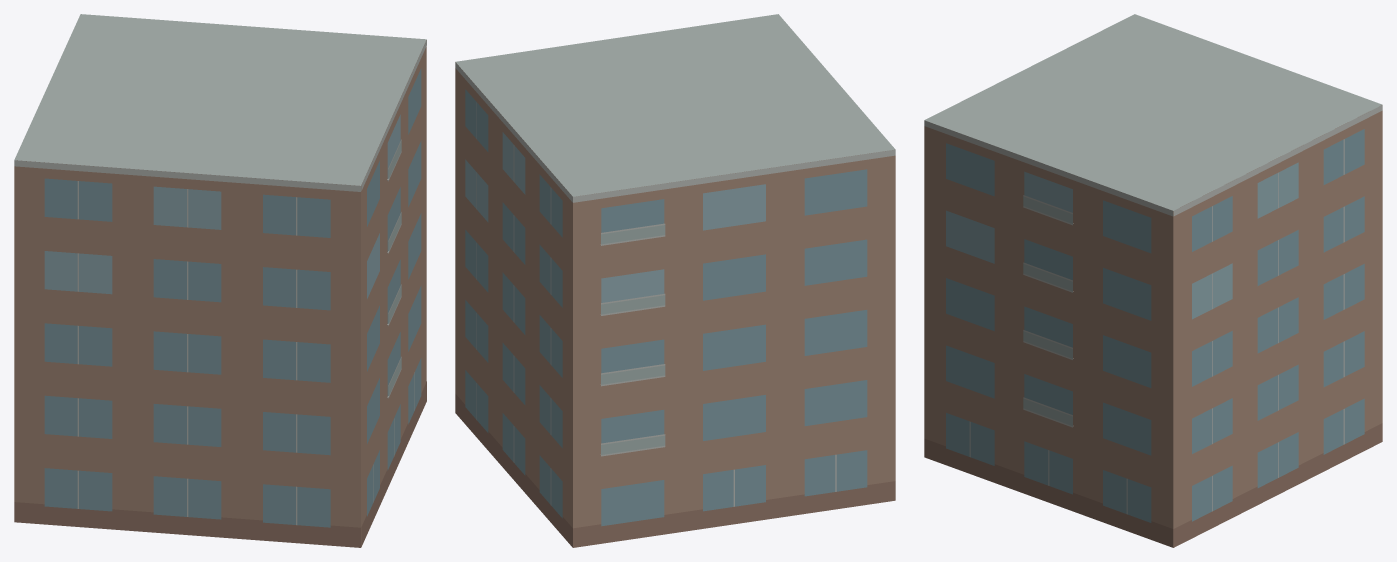
File: survey-upis-32883280.glb
The picture shows the model from 3 angles, left to right: view 1: azimuth 30°, elevation 25°; view 2: azimuth 150°, elevation 25°; view 3: azimuth 270°, elevation 25°; orthographic projection. The views are drawn at different scales.
Visible parts, largest first — view 1: survey-upis-32883280.tmp; view 2: survey-upis-32883280.tmp; view 3: survey-upis-32883280.tmp.
Part boxes in pixels (x1,y1,x2,y2): survey-upis-32883280.tmp: (14,14,426,547); survey-upis-32883280.tmp: (455,14,895,547); survey-upis-32883280.tmp: (924,14,1382,547).
Size of the model in its own units: 17.92 by 14.3 by 17.64.
